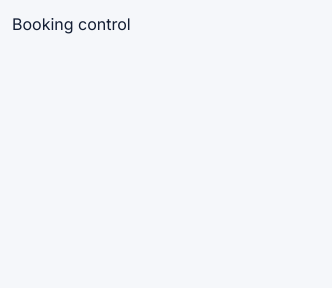
Test: LockedTip accessibility — ARIA tooltip pattern for every LOCKED_FIELD › [{"field":"Booking","note":"Re-pointing to a different booking while a blocked attempt is open could orphan the audit row. Clear the block first."}] focus opens
Note: Keyboard focus opens the tooltip (no pointer events needed).
Focus the element showing "Booking control" at x=71, y=24, box [12,12,131,36]
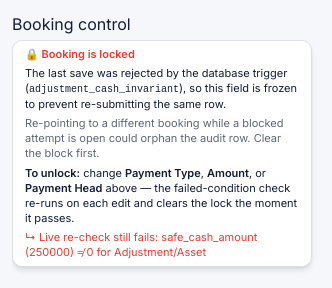
Result: the text "adjustment_cash_invariant" is shown at [29,84,179,95]
Result: the text "Re-pointing to a different booking while a blocked attempt is open could orphan the audit row. Clear the block first." is shown at [25,116,284,160]
Result: the text "To unlock:" is shown at [25,166,80,180]
Note: Blurring the trigger dismisses the tooltip (Radix default).
Leave the element showing "Booking control", box [12,12,131,36]
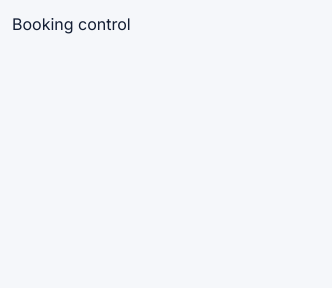
Result: the tooltip "🔒 Booking is locked The last save was rejected by the database trigger (adjustm" is gone
Focus the element showing "Booking control" at x=71, y=24, box [12,12,131,36]
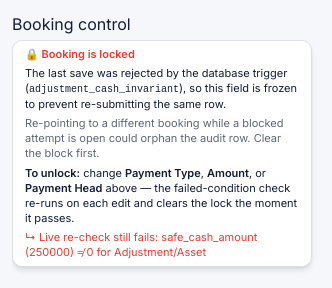
Result: the tooltip is shown
Press Escape in the element showing "Booking control", box [12,12,131,36]
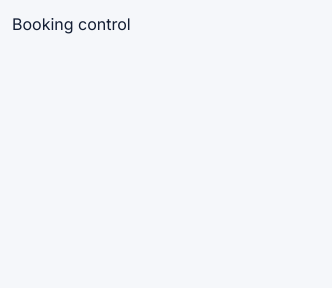
Result: the tooltip "🔒 Booking is locked The last save was rejected by the database trigger (adjustm" is gone
